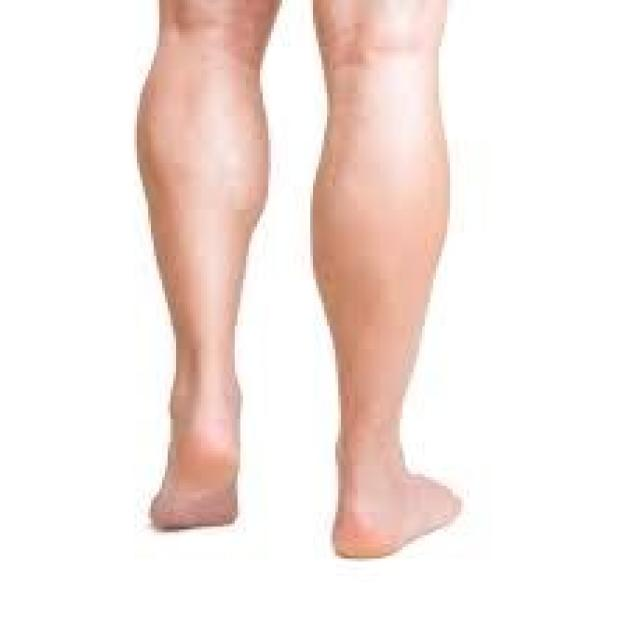Normal: (120, 72, 502, 392)
